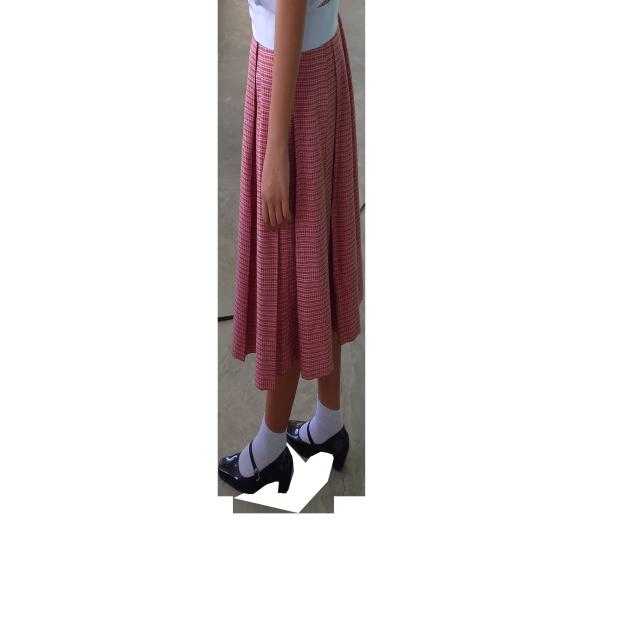shoes: (219, 420, 350, 493)
skirt: (232, 21, 363, 390)
